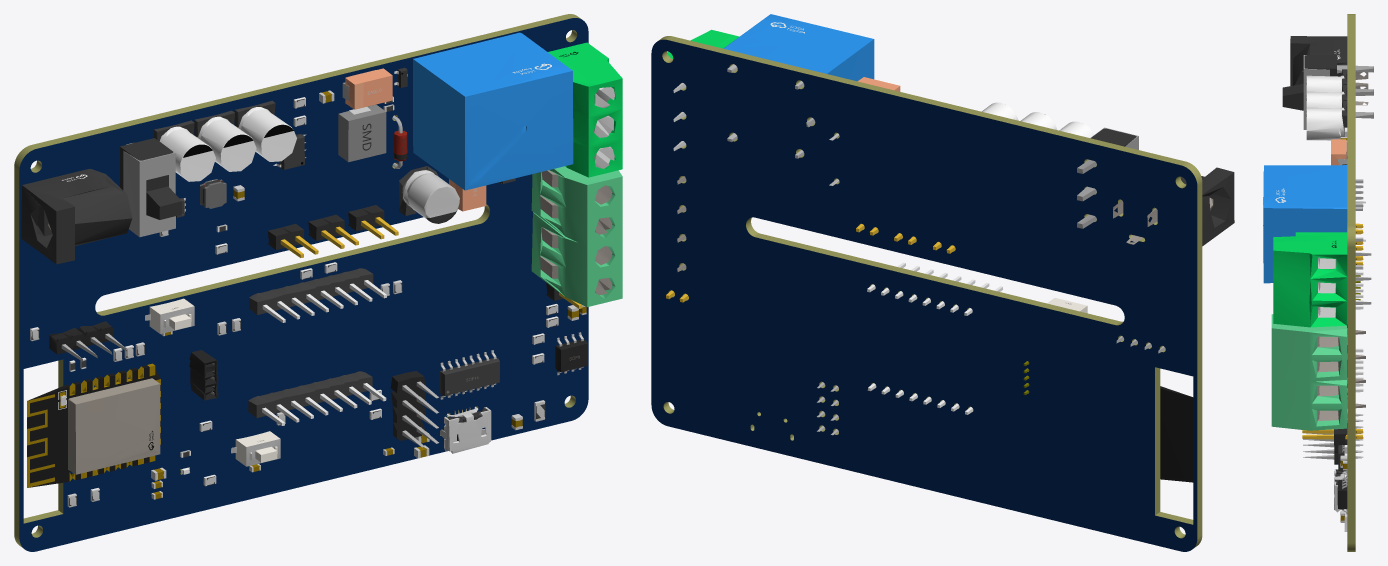
Rendered from 3D_电路板_2026-05-29.obj.
3 renders of one model, left to right at view 1: azimuth 30°, elevation 25°; view 2: azimuth 150°, elevation 25°; view 3: azimuth 270°, elevation 25°, orthographic. The views are drawn at different scales.
Size of the model in its own units: 99.97 by 67.59 by 20.89.
